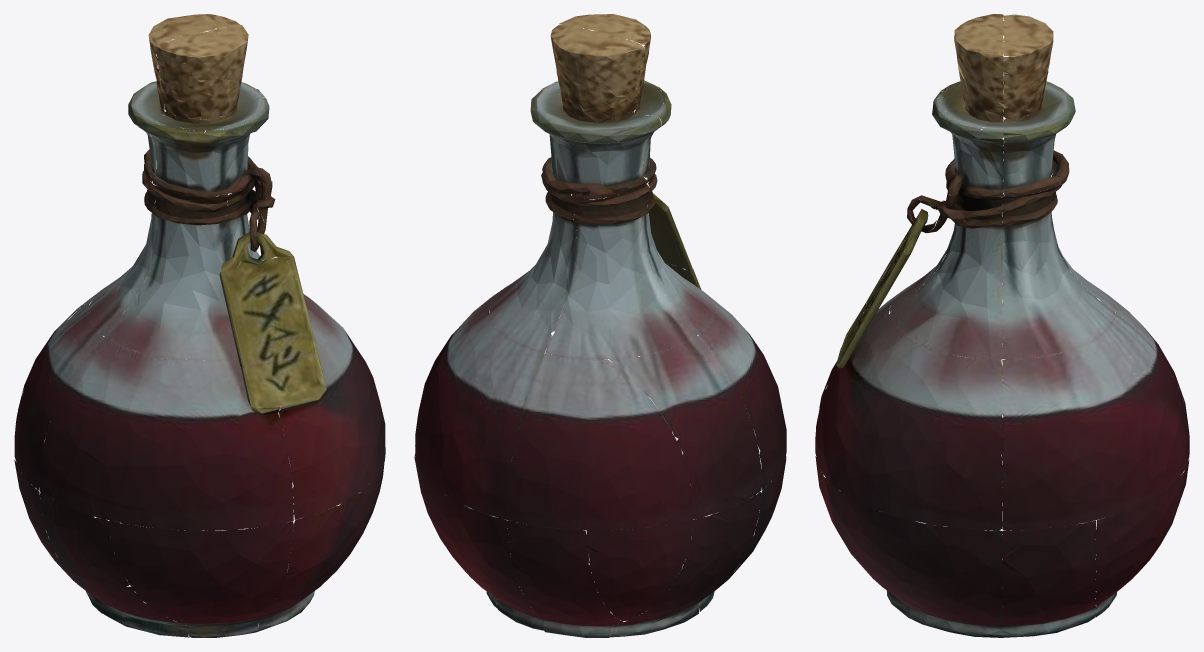
File: w_sera_flask.glb
3 views of the same model, side by side, from view 1: azimuth 30°, elevation 25°; view 2: azimuth 150°, elevation 25°; view 3: azimuth 270°, elevation 25° (orthographic).
Visible parts, largest first — view 1: geometry_0; view 2: geometry_0; view 3: geometry_0.
Part boxes in pixels (box(x1,y1,x2,y2)): geometry_0: box(14, 14, 385, 637); geometry_0: box(414, 14, 786, 637); geometry_0: box(815, 14, 1189, 637).
Size of the model in its own units: 0.1322 by 0.22 by 0.1335.
1 material, 1 textured.
